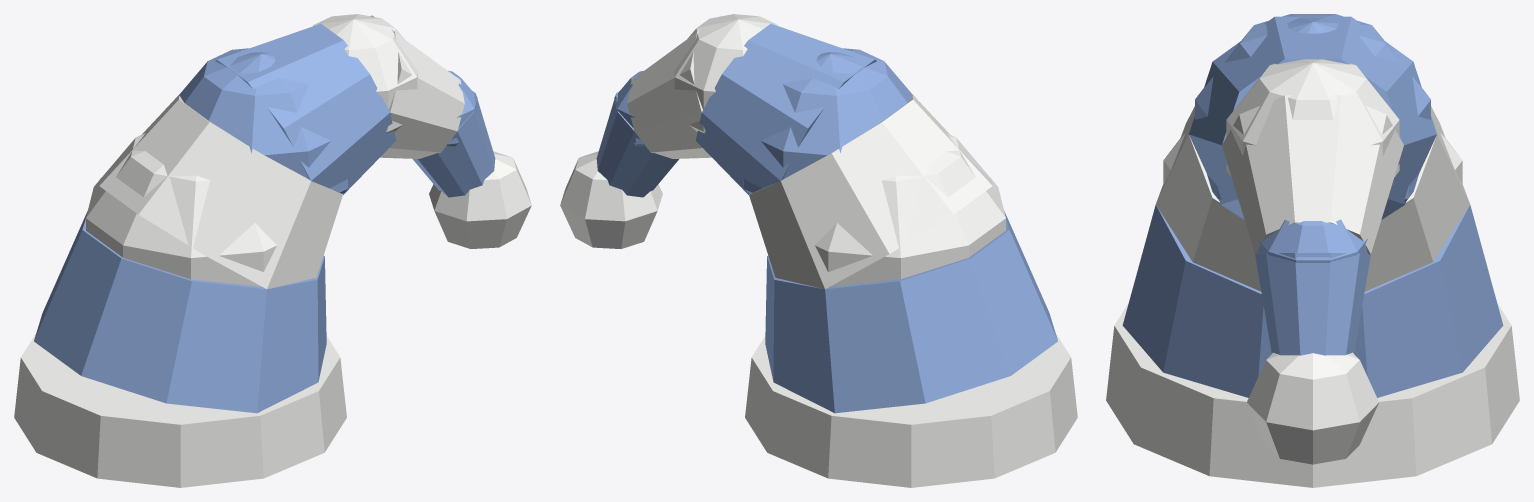
Rendered from HJ_GorroDormir.fbx.
3 views of the same model, side by side, from view 1: azimuth 30°, elevation 25°; view 2: azimuth 150°, elevation 25°; view 3: azimuth 270°, elevation 25° (orthographic). The views are drawn at different scales.
Parts seen in each view (by area): view 1: HJ_GorroDormir; view 2: HJ_GorroDormir; view 3: HJ_GorroDormir.
Boxes of the visible parts, box(x1,y1,x2,y2) form: HJ_GorroDormir: box(14, 14, 531, 487); HJ_GorroDormir: box(560, 14, 1077, 487); HJ_GorroDormir: box(1106, 14, 1519, 487).
Size of the model in its own units: 0.425 by 0.295 by 0.25.
